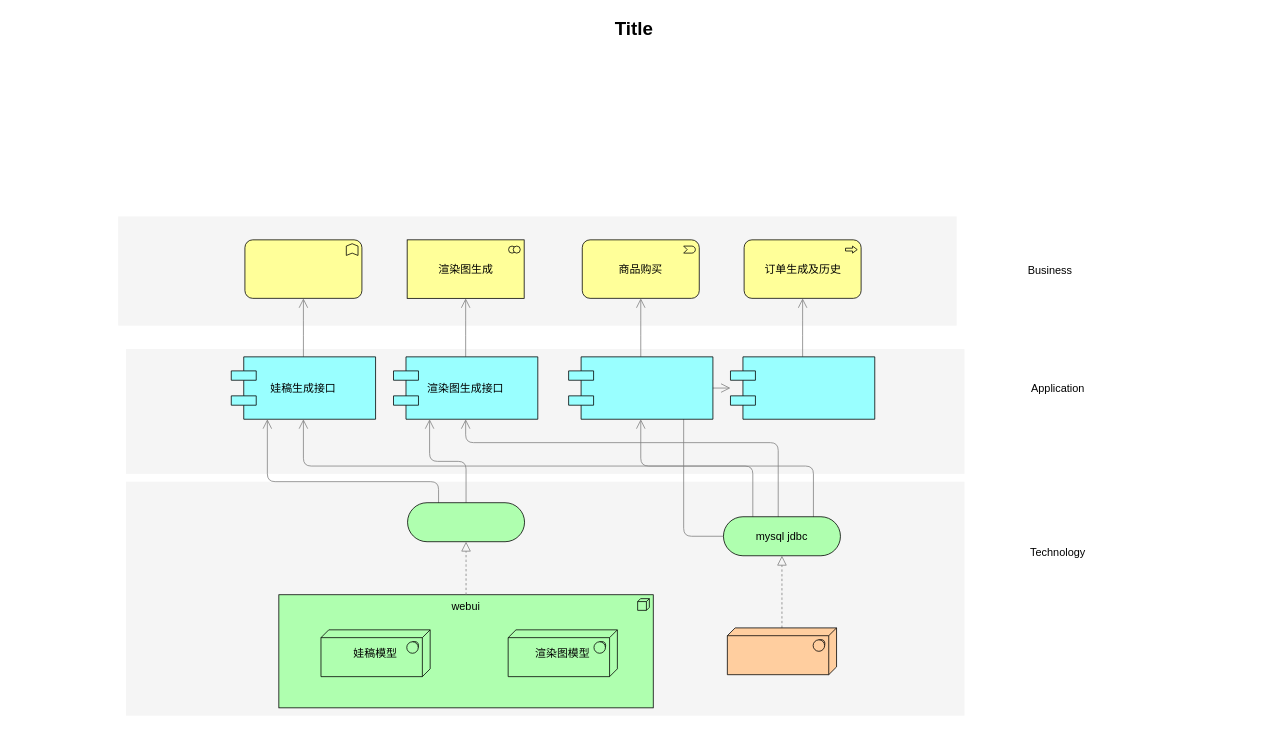
Some shapes in this 1267 by 729 pixel diagram are drawn without their labels. Here are the shapes that lost their labels. From the top down, the box of each, then its label:
(244, 239, 362, 298): 娃稿生成
(568, 356, 713, 419): 商品购买接口
(730, 356, 875, 419): 订单生成及历史接口
(407, 502, 525, 542): http服务
(727, 627, 837, 675): mysql
